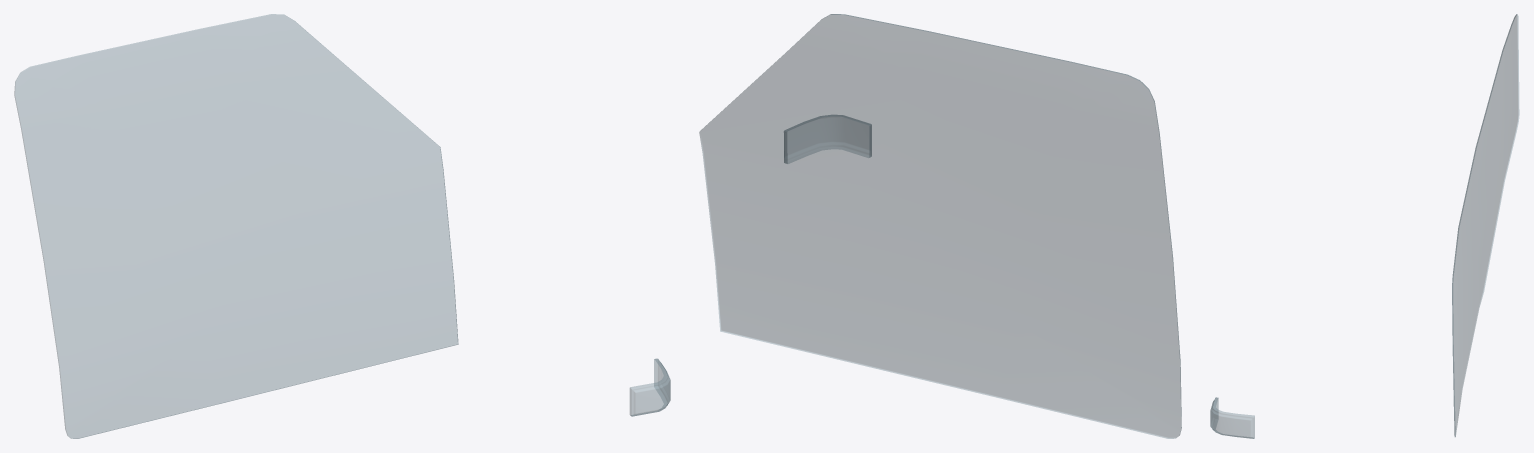
3 renders of one model, left to right at view 1: azimuth 30°, elevation 25°; view 2: azimuth 150°, elevation 25°; view 3: azimuth 270°, elevation 25°, orthographic. The views are drawn at different scales.
Parts seen in each view (by area): view 1: SM_Ambulance_Door_FR_Glass_Ext1; view 2: SM_Ambulance_Door_FR_Glass_Ext1; view 3: SM_Ambulance_Door_FR_Glass_Ext1.
Part boxes in pixels (x1,y1,x2,y2): SM_Ambulance_Door_FR_Glass_Ext1: (14, 14, 670, 438); SM_Ambulance_Door_FR_Glass_Ext1: (699, 14, 1181, 438); SM_Ambulance_Door_FR_Glass_Ext1: (1210, 14, 1519, 438).
Bounding box in the file's own units: 0.7929 × 0.5399 × 0.5563.
